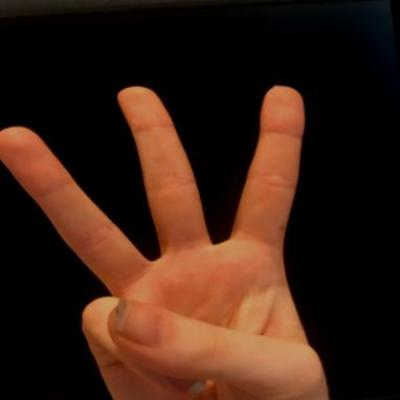hand: (0, 67, 346, 399)
